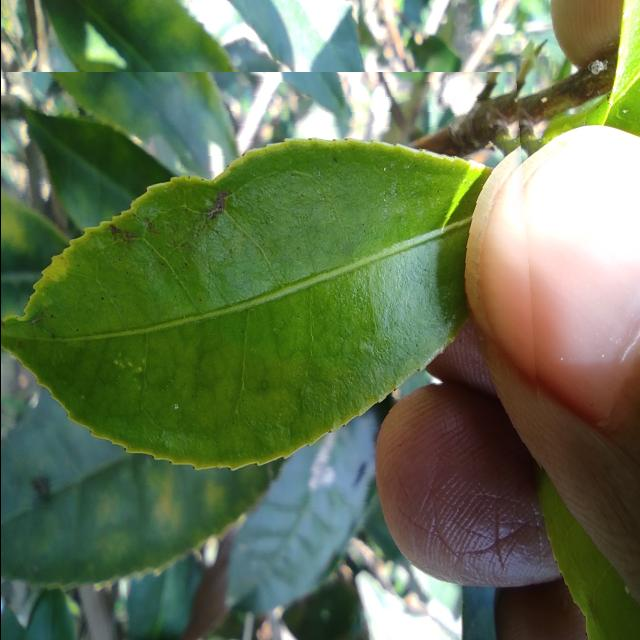Category C(4-7 days): (0, 72, 544, 511)
